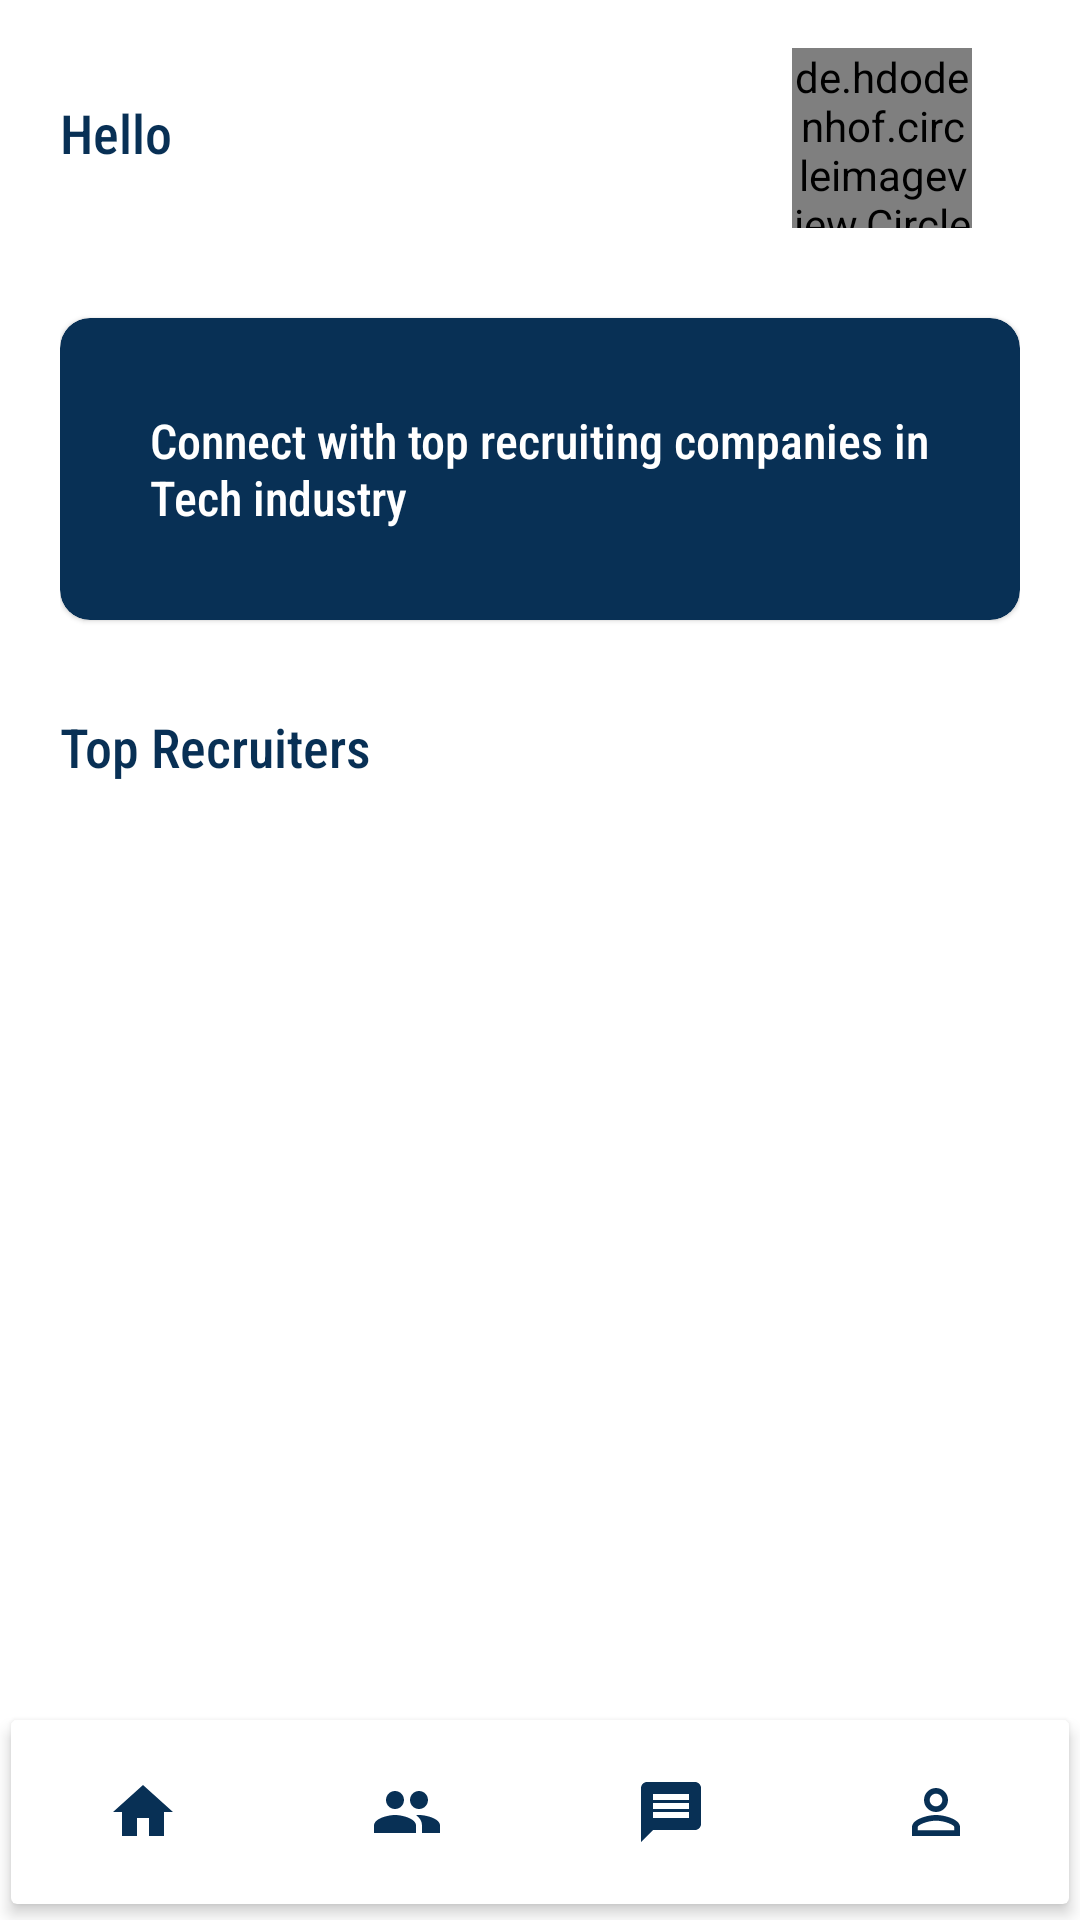

Icon bounding boxes for this 1080 x 1920 phone screenshot, format (x1, y1, x2, y2):
home: (113, 1785, 173, 1836)
message: (641, 1782, 701, 1842)
people: (374, 1791, 440, 1833)
person: (912, 1788, 960, 1836)
